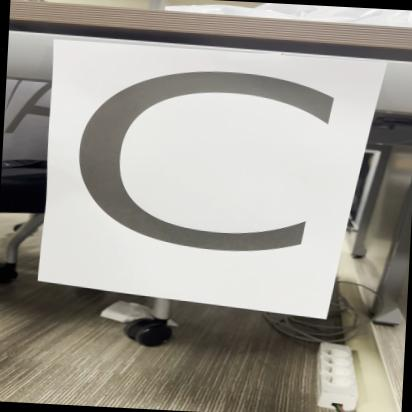seat: (29, 29, 371, 317)
